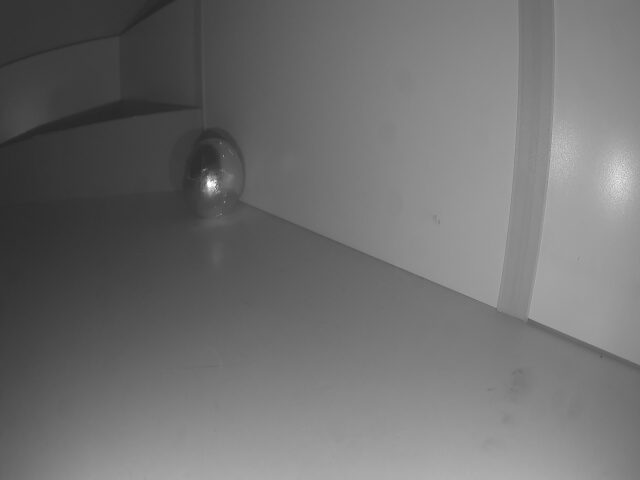Live: (177, 140, 246, 218)
Point: (0, 106, 207, 205)
